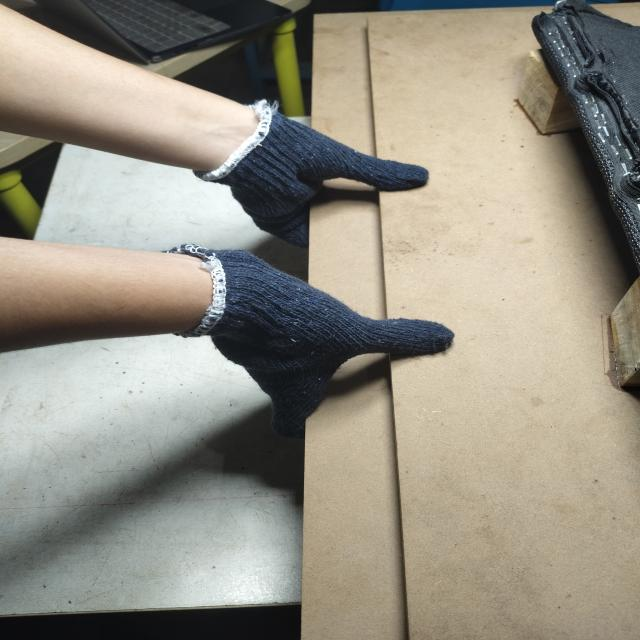Gloves-Detection: (177, 240, 454, 408), (243, 97, 426, 222)
